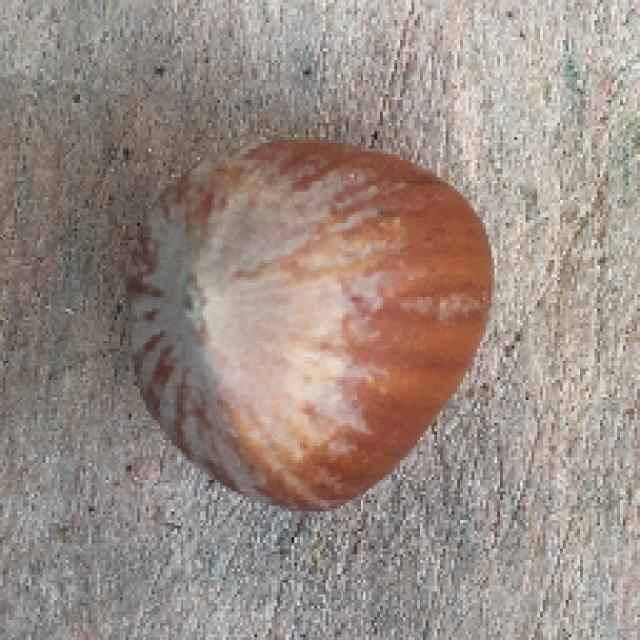qualityHazelnut: (110, 127, 495, 508)
